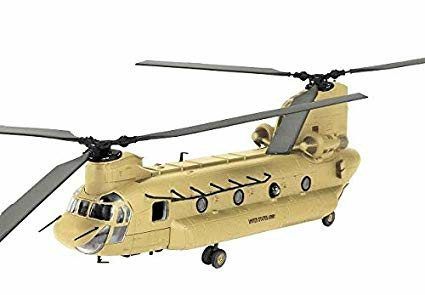chinook: (23, 45, 394, 278)
